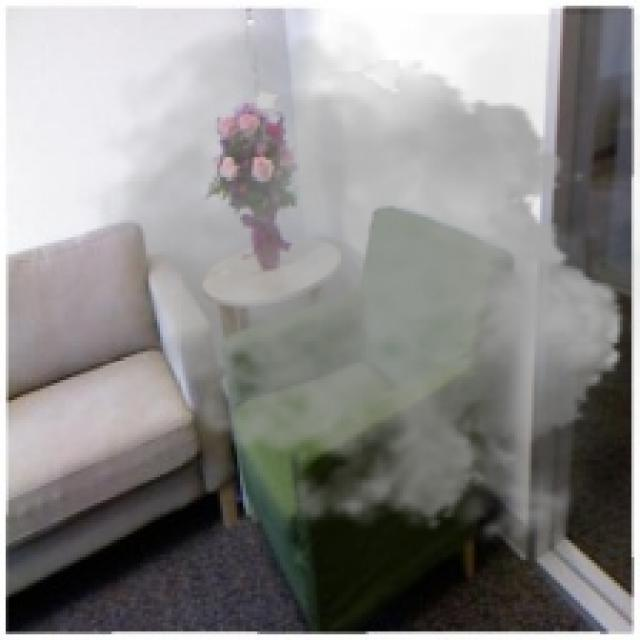Smoke: (74, 14, 637, 563)
